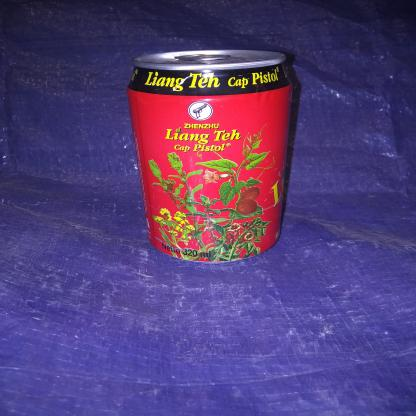can: (124, 46, 304, 264)
